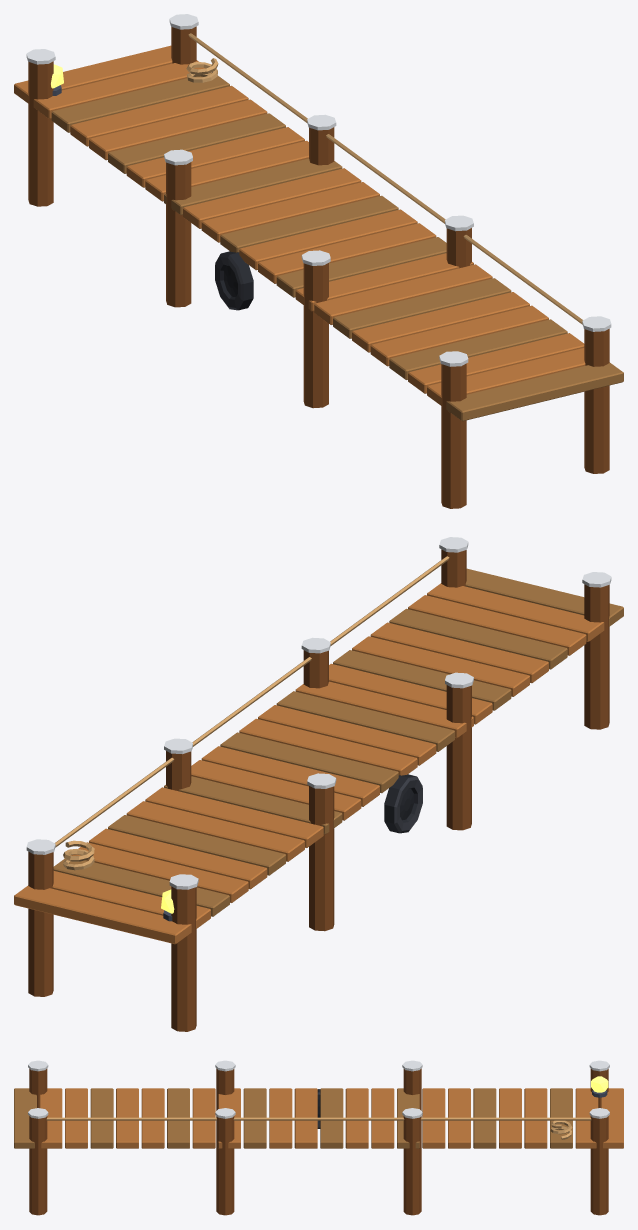
The model's file is Dock.fbx.
The picture shows the model from 3 angles, top to bottom: view 1: azimuth 30°, elevation 25°; view 2: azimuth 150°, elevation 25°; view 3: azimuth 270°, elevation 25°; orthographic projection. The views are drawn at different scales.
Visible parts, largest first — view 1: Dock; view 2: Dock; view 3: Dock, Neon_Yellow.
Boxes of the visible parts, x1,y1,x2,y2 form: Dock: [14, 14, 623, 508]; Dock: [14, 537, 623, 1031]; Dock: [14, 1060, 623, 1215]; Neon_Yellow: [591, 1076, 608, 1092].
Size of the model in its own units: 5.4 by 4.3 by 23.9.
Materials: 2 (1 with a texture image).
